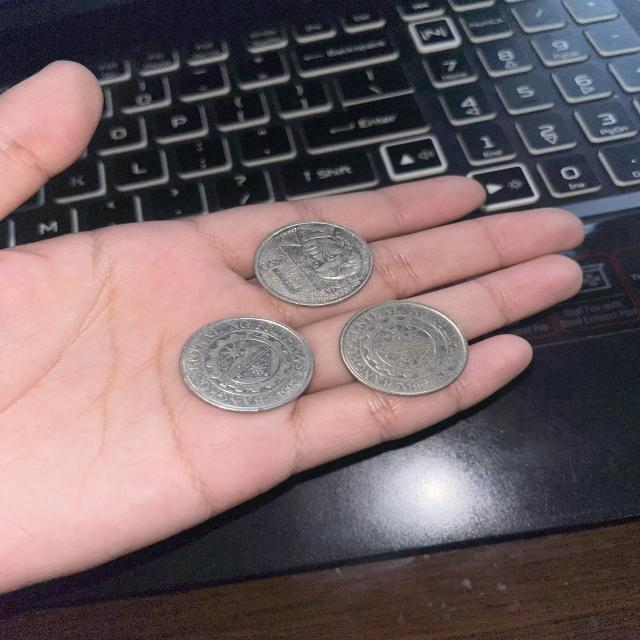1_New_Front: (262, 227, 362, 296)
1_Old_Back: (192, 324, 300, 400), (358, 311, 454, 385)
